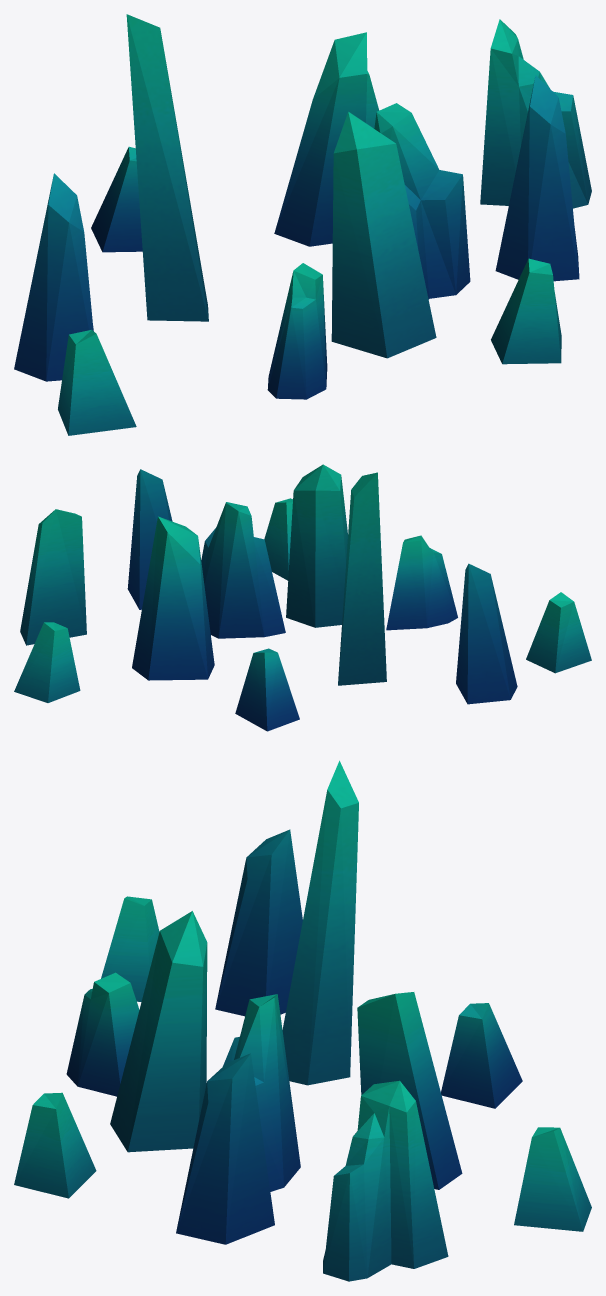
File: ZLP_Crystalk_A_14.FBX
The picture shows the model from 3 angles, top to bottom: view 1: azimuth 30°, elevation 25°; view 2: azimuth 150°, elevation 25°; view 3: azimuth 270°, elevation 25°; orthographic projection. The views are drawn at different scales.
Parts seen in each view (by area): view 1: ZLP_Crystalk_A_14; view 2: ZLP_Crystalk_A_14; view 3: ZLP_Crystalk_A_14.
Part boxes in pixels (x1,y1,x2,y2): ZLP_Crystalk_A_14: [14, 14, 591, 435]; ZLP_Crystalk_A_14: [14, 464, 591, 731]; ZLP_Crystalk_A_14: [14, 760, 591, 1281].
Bounding box in the file's own units: 316 × 139 × 247.
